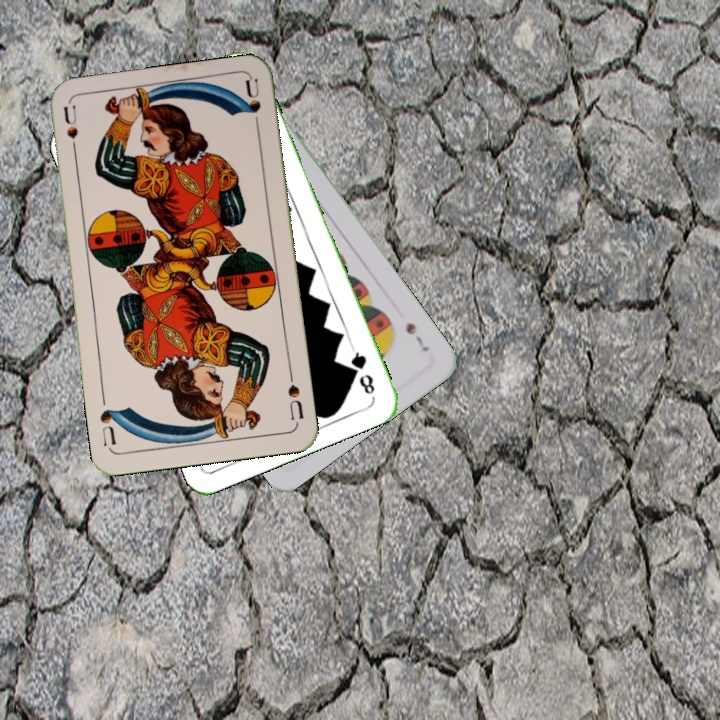G8: (347, 343, 378, 397)
S7: (402, 318, 432, 355)
SU: (283, 367, 306, 426), (59, 102, 81, 162)
